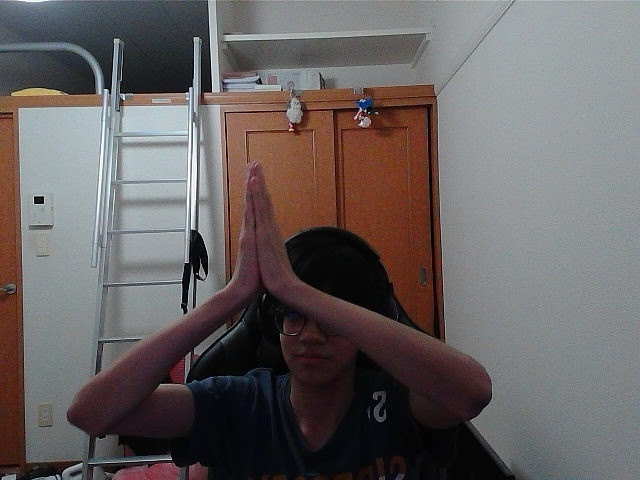pray: (252, 175, 272, 279)
